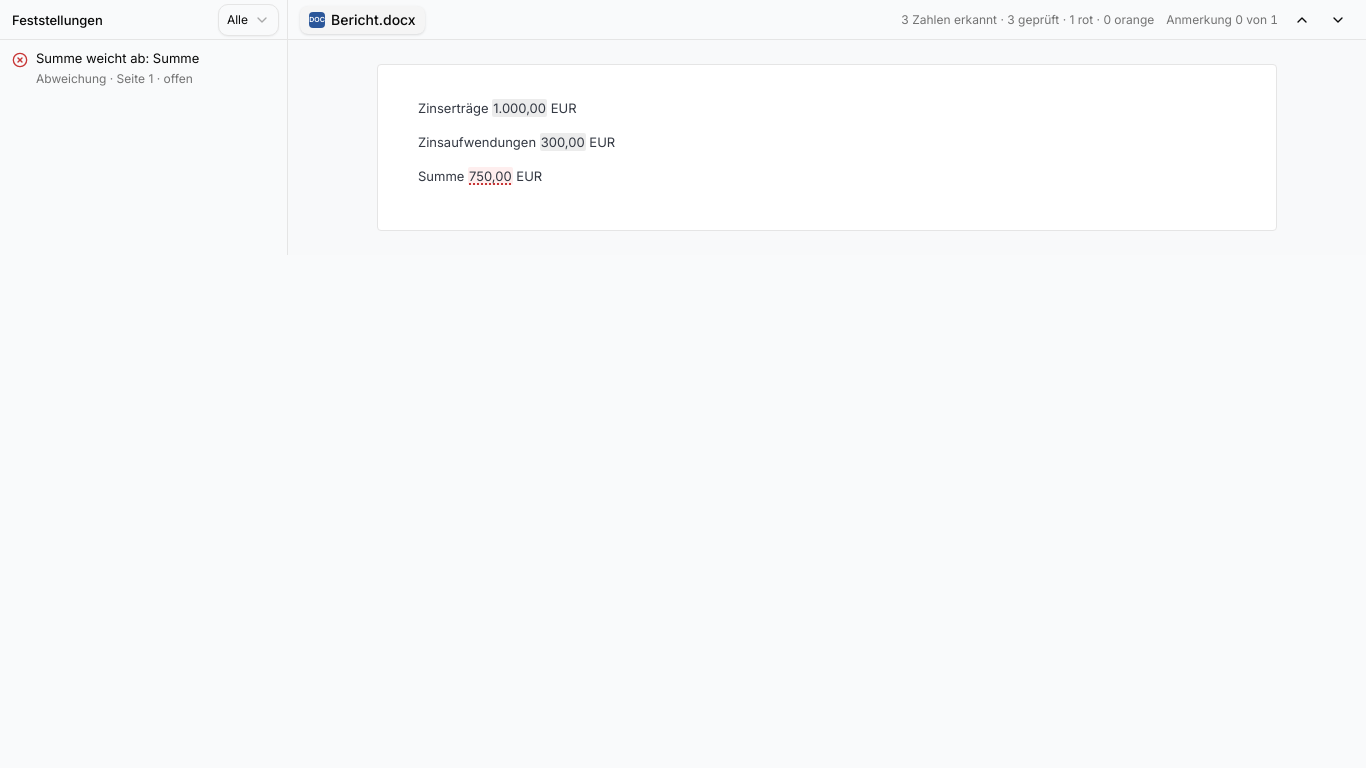
Test: PlausibilityWorkspace popover › explains a figure without a check relation instead of showing a calculation
This screenshot has width=1366, height=768.
Click the button "1.000,00": (520, 108) [492,99,547,117]
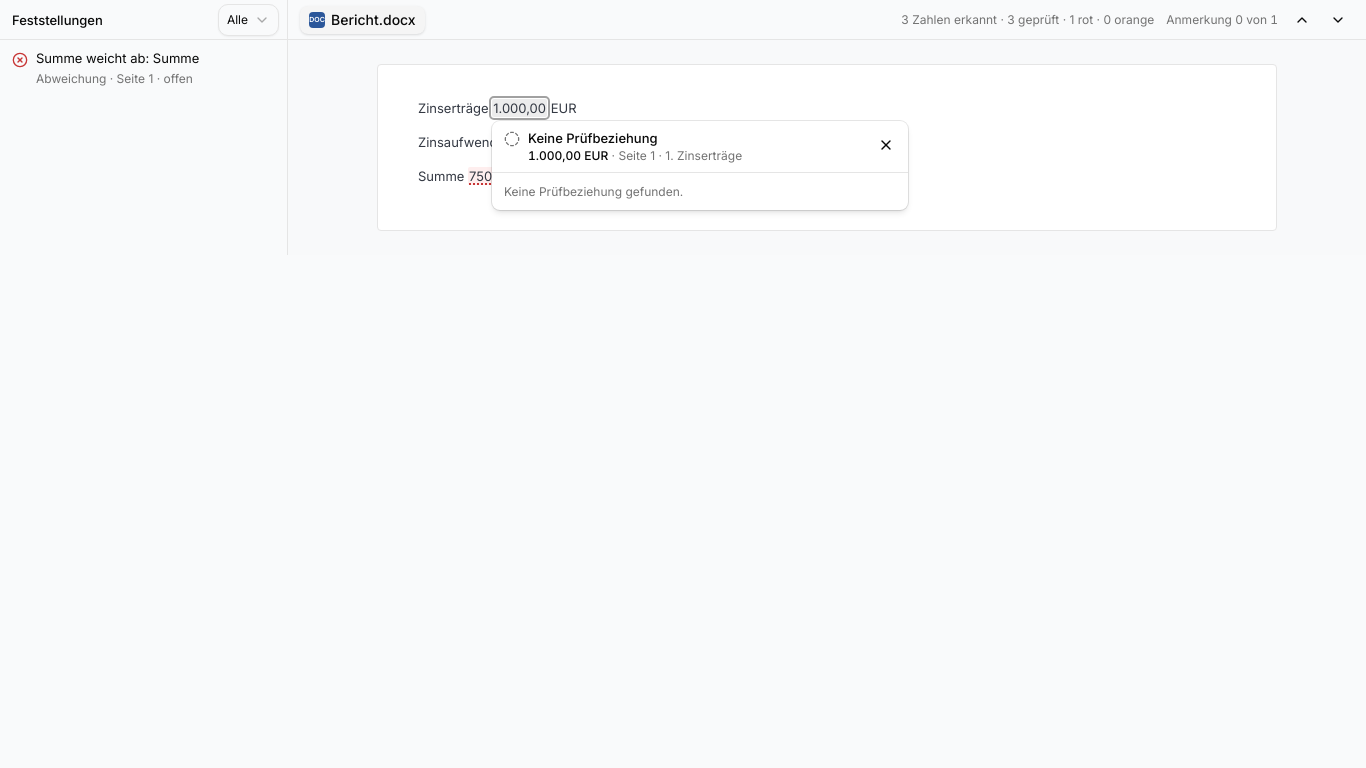
Expected: the text "Keine Prüfbeziehung" is shown, [528,130,658,146]
Expected: the text "Keine Prüfbeziehung gefunden." is shown, [504,184,683,199]
